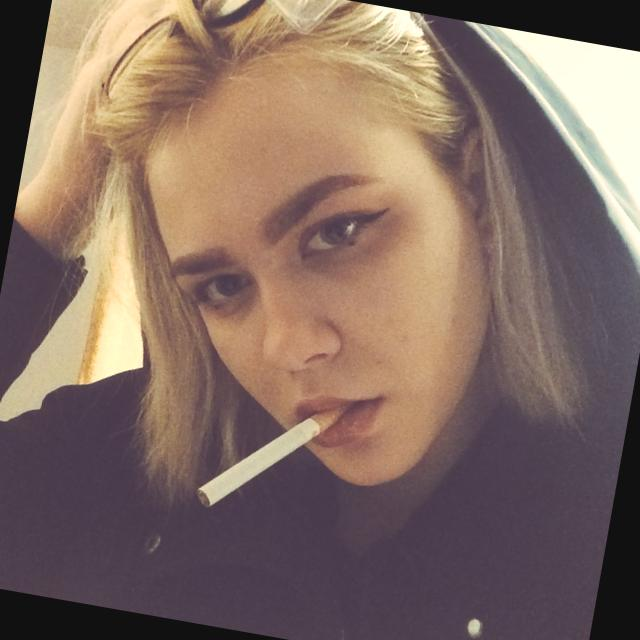smoke: (190, 370, 358, 535)
